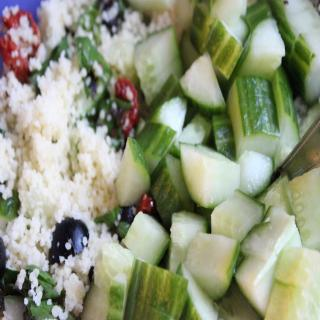Cucumber: (94, 0, 320, 320), (180, 142, 242, 212), (121, 256, 188, 320), (233, 75, 287, 149)
Salad: (0, 0, 320, 320)
